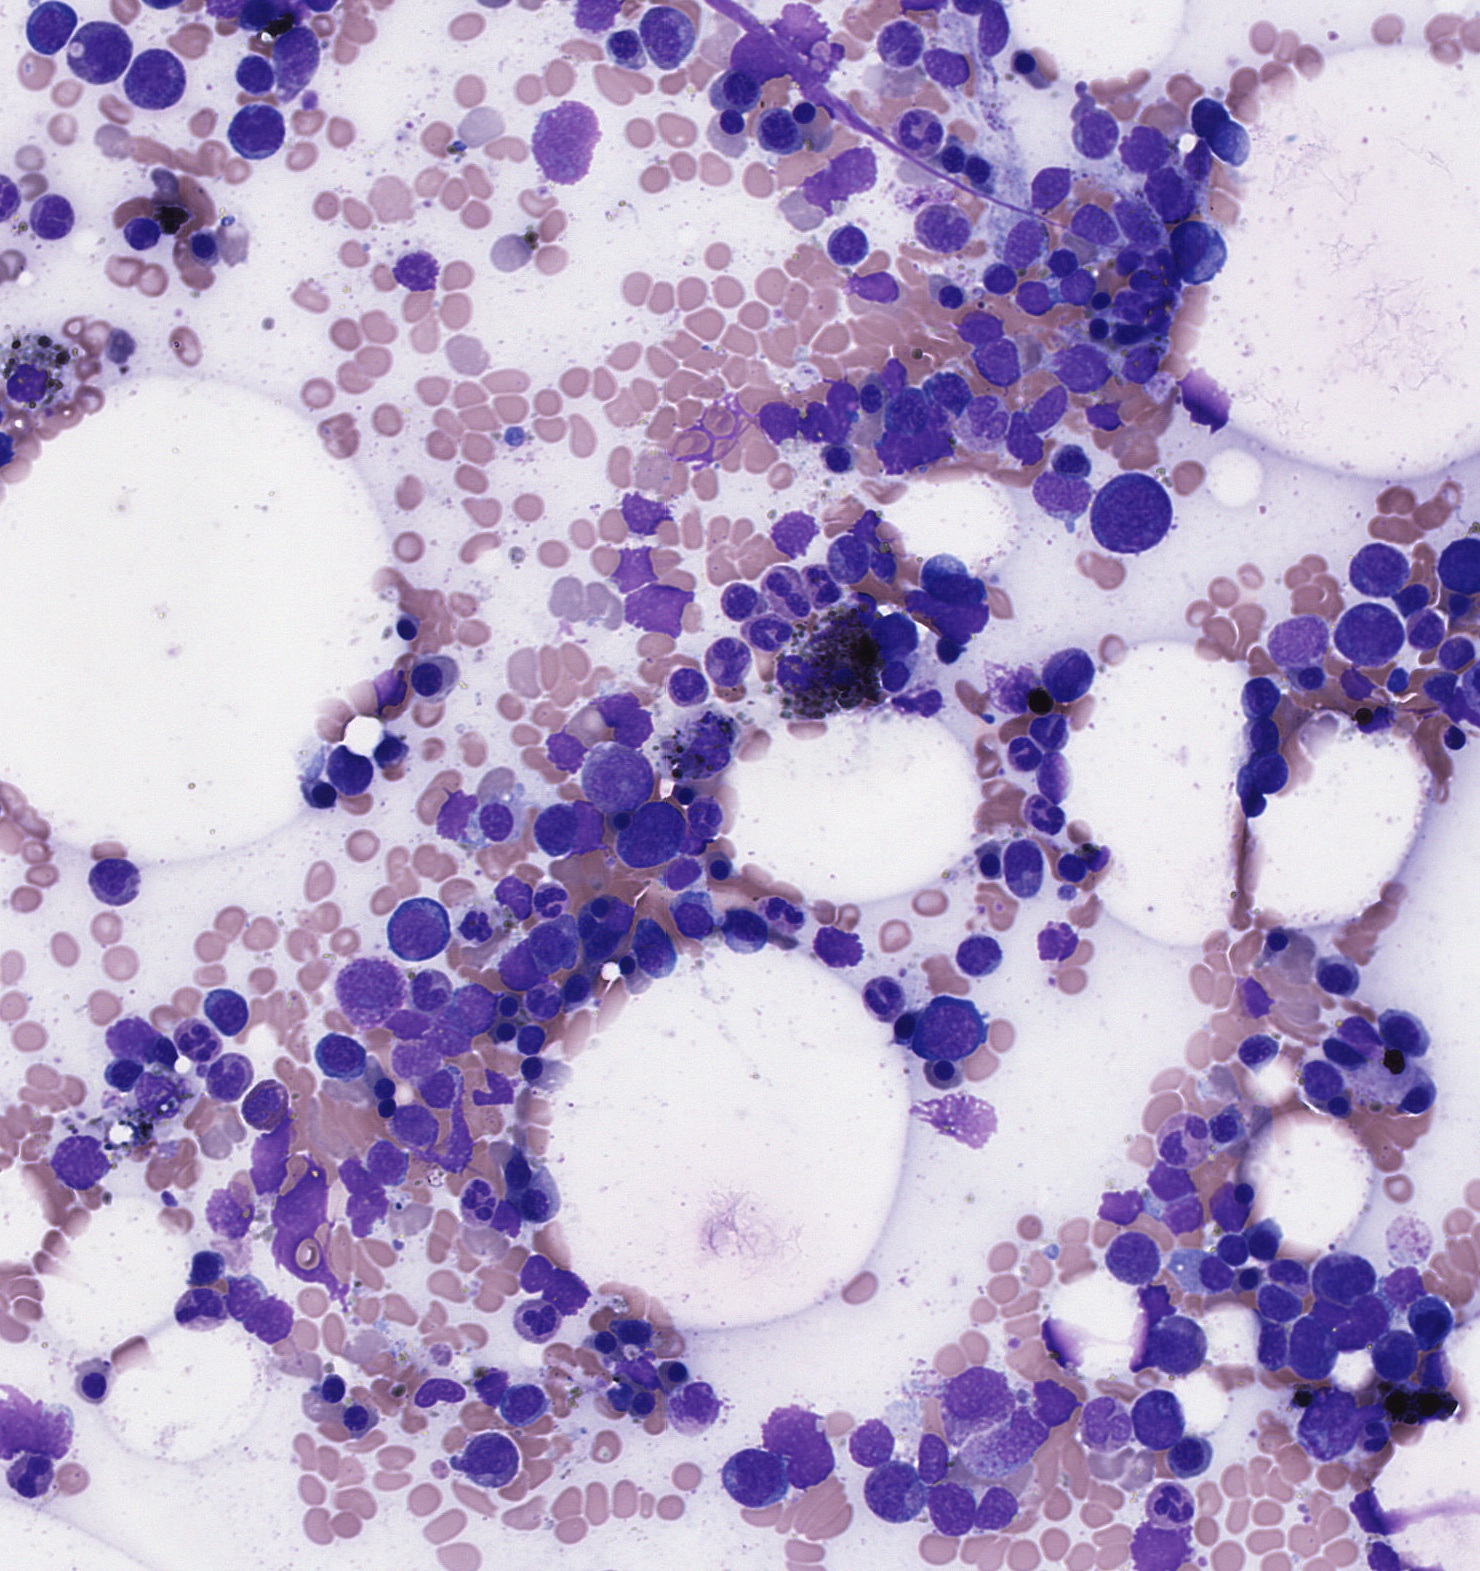objectness: (1167, 218, 1217, 269), (861, 978, 911, 1028), (1022, 704, 1072, 754), (707, 635, 757, 685), (892, 110, 942, 160), (442, 903, 492, 953), (1143, 1476, 1193, 1526), (668, 1378, 718, 1428), (676, 790, 726, 840), (22, 189, 72, 239), (958, 397, 1008, 447), (1022, 712, 1072, 763), (177, 1016, 227, 1066), (1018, 792, 1068, 842), (772, 580, 822, 630), (1160, 1113, 1210, 1163), (800, 561, 850, 611), (754, 882, 804, 932), (754, 554, 804, 604), (4, 1449, 54, 1499), (1003, 729, 1053, 779), (510, 1298, 561, 1348), (1148, 1323, 1198, 1373), (1403, 607, 1454, 657), (85, 847, 135, 898), (74, 24, 124, 74), (826, 529, 876, 579), (640, 8, 690, 58), (869, 1464, 919, 1514), (995, 835, 1045, 885), (1356, 537, 1406, 587), (129, 47, 179, 97), (1071, 102, 1121, 152), (403, 968, 453, 1019), (915, 207, 965, 257), (1352, 1415, 1402, 1465), (203, 1053, 253, 1103), (917, 206, 967, 256), (389, 903, 440, 953), (622, 808, 672, 859), (1106, 486, 1156, 536), (732, 1451, 782, 1501), (658, 847, 708, 898), (1182, 367, 1232, 417), (1021, 166, 1071, 216), (1031, 1385, 1081, 1435), (1264, 1245, 1314, 1295), (1189, 1247, 1239, 1297), (659, 662, 709, 712), (840, 498, 890, 548), (929, 594, 979, 644), (281, 1177, 331, 1227), (1333, 1005, 1383, 1055), (872, 648, 922, 699), (1285, 1318, 1335, 1368), (904, 1430, 954, 1481), (594, 893, 644, 943), (1141, 1161, 1191, 1211), (480, 1194, 530, 1244), (1036, 235, 1086, 285), (383, 1039, 433, 1090), (672, 895, 722, 945), (773, 1415, 823, 1465), (786, 397, 836, 447), (357, 1063, 408, 1113), (810, 399, 860, 449), (995, 1414, 1045, 1464), (1242, 711, 1292, 761), (146, 195, 196, 245), (1385, 571, 1435, 621), (1029, 749, 1079, 799), (1042, 648, 1092, 699), (554, 959, 604, 1009), (332, 1147, 383, 1197), (880, 1000, 931, 1051), (857, 262, 907, 312), (892, 678, 942, 728), (1225, 782, 1276, 832), (997, 415, 1047, 465), (1021, 381, 1071, 431), (1072, 274, 1123, 324), (1035, 468, 1085, 518), (722, 904, 772, 955), (512, 1250, 562, 1300), (1120, 200, 1170, 250), (428, 786, 478, 836), (800, 159, 850, 209), (381, 603, 431, 653), (1277, 615, 1327, 665), (248, 1126, 298, 1176), (1046, 845, 1096, 895), (608, 544, 658, 594), (847, 1419, 897, 1469), (506, 1013, 556, 1063), (608, 703, 658, 753), (545, 1263, 595, 1314), (1040, 1314, 1091, 1364), (1403, 1301, 1454, 1351), (541, 726, 591, 776), (484, 870, 534, 920), (1107, 280, 1157, 330), (588, 686, 638, 736), (1120, 246, 1170, 296), (1202, 1225, 1252, 1275), (1113, 340, 1163, 390), (1135, 289, 1185, 340), (1089, 1181, 1139, 1231), (245, 1295, 295, 1346), (351, 971, 401, 1021), (502, 1376, 552, 1426), (387, 1098, 437, 1148), (1077, 836, 1127, 886), (917, 1483, 967, 1533), (409, 1364, 459, 1414), (465, 1358, 515, 1408), (478, 1064, 529, 1115), (1429, 628, 1479, 678), (976, 334, 1027, 384), (932, 558, 982, 608), (1321, 1314, 1372, 1364), (362, 664, 412, 714), (472, 795, 522, 845), (835, 134, 885, 184), (1232, 1212, 1282, 1262), (922, 40, 972, 90), (997, 214, 1047, 264), (388, 244, 438, 294), (1072, 335, 1123, 385), (946, 301, 996, 351), (341, 1188, 391, 1238), (1173, 134, 1223, 184), (1161, 1188, 1212, 1238), (107, 1014, 157, 1064), (1143, 163, 1193, 213), (1067, 198, 1117, 248), (232, 104, 282, 154), (357, 1085, 408, 1135), (634, 584, 684, 635), (1314, 1397, 1365, 1447), (533, 113, 583, 163), (1380, 1257, 1430, 1307), (1296, 1056, 1346, 1106), (711, 575, 761, 625), (1104, 308, 1155, 358), (1342, 1291, 1392, 1341), (139, 1026, 189, 1076), (615, 481, 665, 532), (869, 611, 919, 661), (1182, 89, 1232, 139), (616, 1344, 666, 1394), (1120, 121, 1170, 171), (1319, 1032, 1369, 1083), (823, 374, 874, 424), (857, 541, 907, 591), (363, 1140, 413, 1190), (323, 746, 373, 796), (218, 1270, 268, 1321), (574, 884, 625, 934), (387, 1002, 437, 1052), (627, 920, 677, 970), (1301, 1289, 1351, 1339), (951, 1368, 1002, 1418), (417, 1059, 467, 1109), (748, 392, 798, 442), (1345, 1486, 1395, 1536), (1416, 662, 1466, 712), (431, 1103, 481, 1154), (965, 1, 1015, 51), (1079, 391, 1129, 441), (1072, 303, 1123, 353), (415, 1024, 465, 1074), (273, 25, 323, 75), (970, 1483, 1020, 1533), (771, 501, 821, 551), (1104, 237, 1155, 287), (442, 987, 492, 1037), (492, 939, 542, 989), (926, 625, 976, 675), (565, 896, 615, 946), (531, 800, 581, 850), (228, 47, 278, 97), (951, 930, 1002, 980), (821, 225, 871, 276), (956, 143, 1006, 193), (1234, 664, 1284, 714), (1198, 1102, 1248, 1152), (997, 38, 1047, 88), (364, 724, 415, 774), (296, 769, 346, 820), (600, 18, 650, 68), (330, 1391, 380, 1442), (810, 436, 860, 486), (924, 1003, 974, 1053), (929, 134, 979, 184), (1380, 1003, 1430, 1053), (778, 86, 828, 136), (1253, 913, 1303, 963), (965, 839, 1015, 889), (915, 1045, 965, 1095), (1248, 1273, 1298, 1323), (505, 1045, 555, 1095), (65, 1361, 115, 1411), (480, 1009, 530, 1059), (926, 270, 976, 320), (1042, 436, 1092, 486), (618, 1382, 668, 1432), (490, 1149, 540, 1199), (1228, 1024, 1278, 1074), (926, 363, 976, 413), (1246, 1325, 1296, 1375), (652, 1348, 702, 1398), (708, 96, 758, 146), (1317, 950, 1367, 1000), (882, 385, 932, 436), (95, 1045, 145, 1095), (506, 1180, 556, 1230), (611, 1307, 661, 1357), (581, 1316, 632, 1366), (844, 370, 894, 420), (689, 842, 739, 892), (1390, 1077, 1440, 1127), (1161, 1433, 1212, 1483), (175, 221, 225, 271), (317, 1031, 367, 1081), (478, 981, 529, 1031), (593, 753, 643, 803), (523, 877, 573, 925), (1020, 710, 1070, 758), (177, 1282, 225, 1332), (451, 1180, 499, 1230), (737, 607, 787, 655), (463, 1435, 513, 1483), (241, 1074, 289, 1124), (917, 203, 965, 253), (1241, 749, 1291, 797), (876, 422, 926, 470), (1232, 973, 1282, 1021), (1370, 1332, 1420, 1380), (266, 1223, 314, 1273), (113, 207, 161, 257), (1374, 653, 1424, 701), (1040, 870, 1091, 918), (572, 914, 620, 964), (907, 422, 957, 470), (1205, 120, 1255, 168), (974, 249, 1022, 299), (757, 103, 805, 153), (721, 63, 771, 111), (1223, 1252, 1271, 1302), (1285, 653, 1335, 701), (178, 1243, 228, 1291), (402, 653, 452, 701), (202, 988, 250, 1038), (307, 1364, 357, 1412), (1344, 605, 1392, 655), (1433, 685, 1480, 735), (1434, 712, 1480, 763), (1129, 1525, 1180, 1571), (1440, 543, 1480, 591), (568, 0, 618, 38), (1358, 1533, 1408, 1571)
